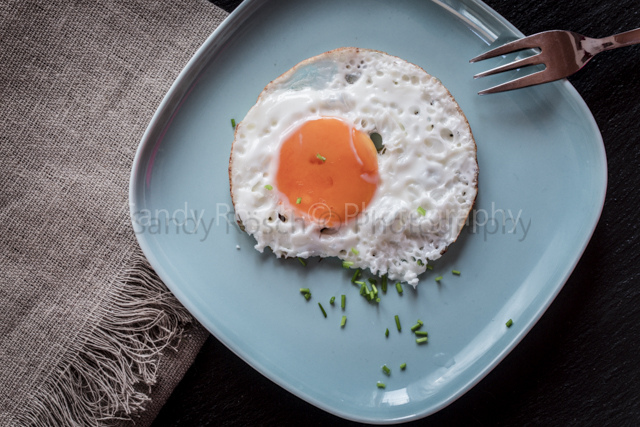fried egg: (238, 73, 478, 286)
